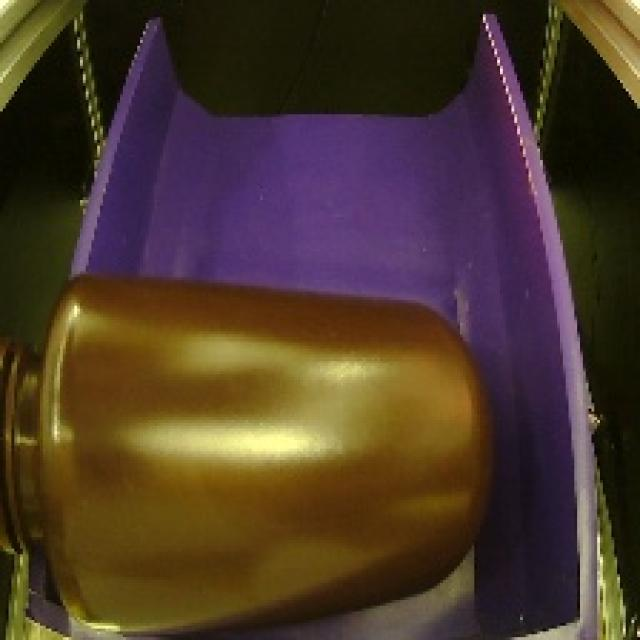plastic: (0, 242, 512, 640)
